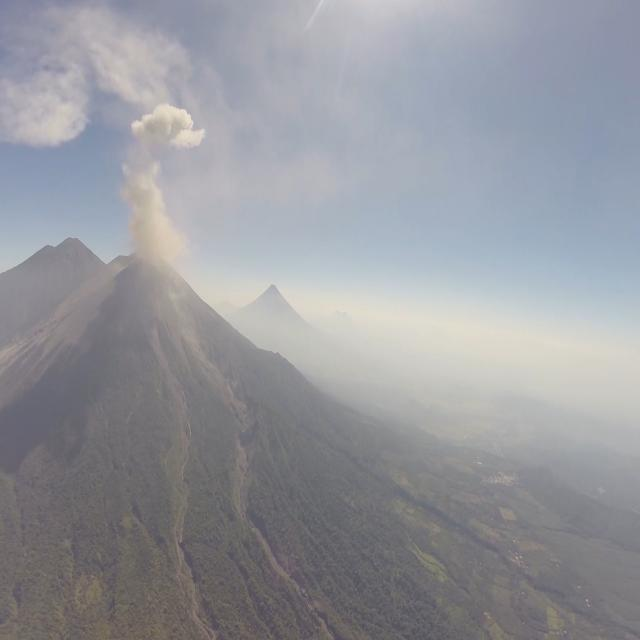Plume: (0, 27, 91, 148), (120, 152, 193, 266), (132, 99, 208, 154)
